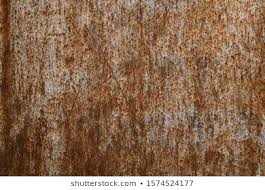rust: (1, 1, 265, 176)
